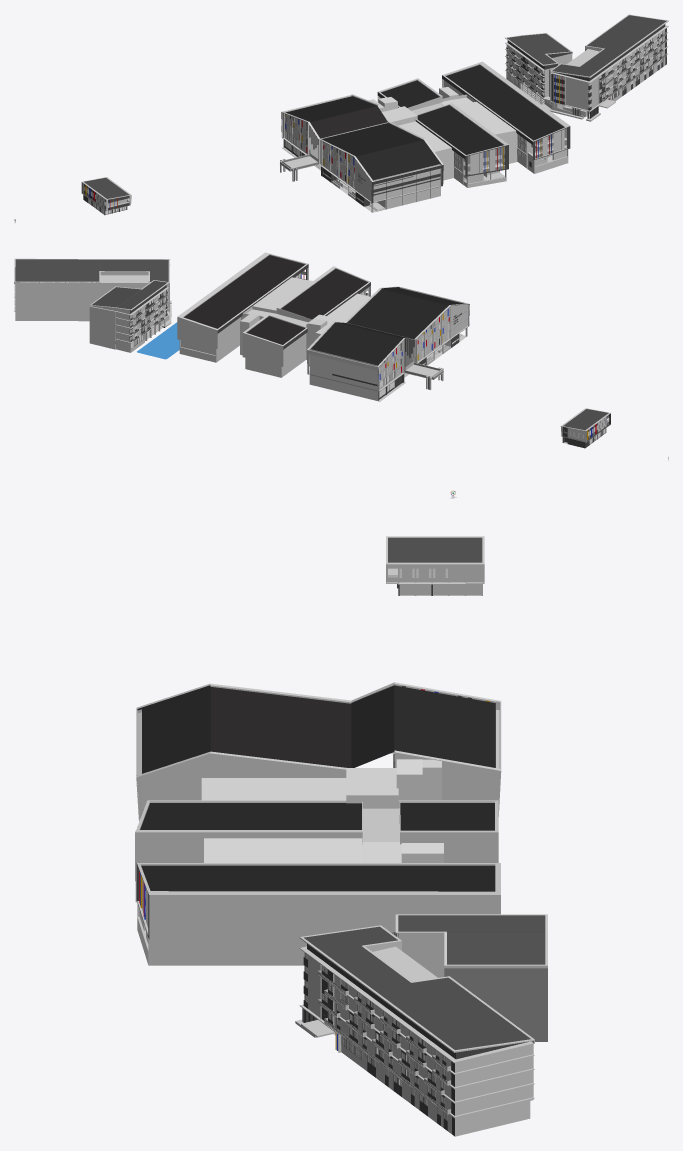
The picture shows the model from 3 angles, top to bottom: view 1: azimuth 30°, elevation 25°; view 2: azimuth 150°, elevation 25°; view 3: azimuth 270°, elevation 25°; orthographic projection. The views are drawn at different scales.
Visible parts, largest first — view 1: Block A, Dorm, Block C.001, Block B.001, Block A-B, Block B-C, Upper Floor; view 2: Block A, Dorm, Block C.001, Block B.001, Block B-C, Upper Floor, Block A-B, Pool.001; view 3: Dorm, Block A, Block C.001, Block B.001, Block A-B, Block B-C, Upper Floor, Lower Floor.
Part boxes in pixels (<box>): Block A: <box>280,94,443,212</box>; Dorm: <box>505,14,668,121</box>; Block C.001: <box>442,61,570,173</box>; Block B.001: <box>377,78,508,187</box>; Block A-B: <box>369,97,453,180</box>; Block B-C: <box>439,87,517,163</box>; Upper Floor: <box>81,177,131,211</box>; Block A: <box>306,286,469,401</box>; Dorm: <box>14,258,171,352</box>; Block C.001: <box>177,252,308,362</box>; Block B.001: <box>242,266,370,377</box>; Block B-C: <box>240,277,312,355</box>; Upper Floor: <box>560,408,610,442</box>; Block A-B: <box>306,293,370,366</box>; Pool.001: <box>137,322,179,359</box>; Dorm: <box>295,914,547,1136</box>; Block A: <box>136,682,501,821</box>; Block C.001: <box>136,863,500,965</box>; Block B.001: <box>135,800,498,902</box>; Block A-B: <box>201,759,441,808</box>; Block B-C: <box>204,838,443,862</box>; Upper Floor: <box>386,536,484,584</box>; Lower Floor: <box>397,584,482,595</box>.
Size of what is drawn, in the model's own units: 344 by 22.41 by 94.14.
Materials: 11 (1 with a texture image).
